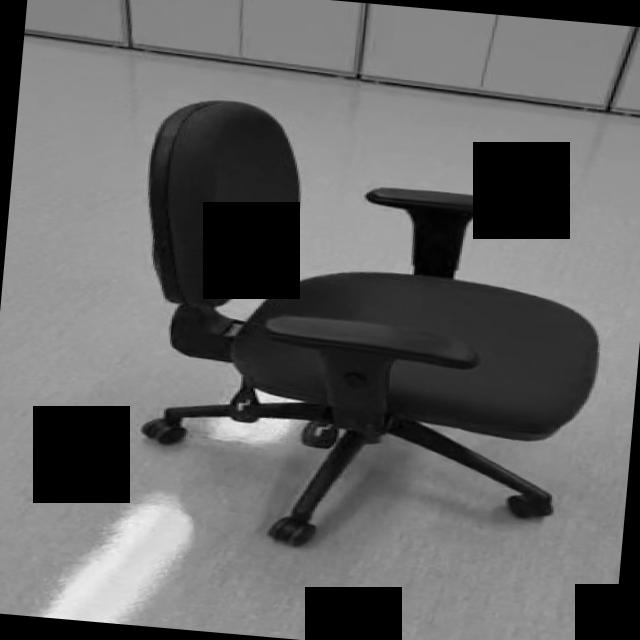cadeira-azul: (116, 92, 616, 570)
